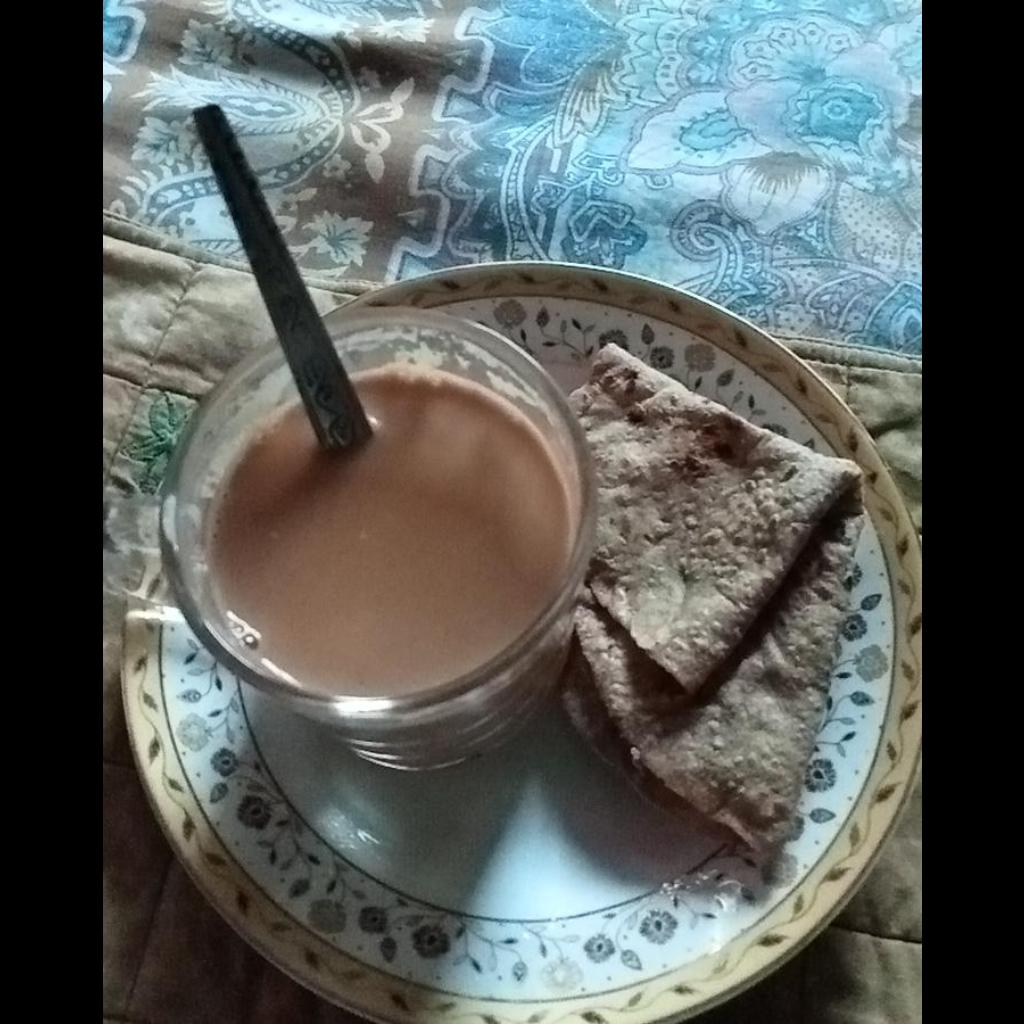cha: (196, 361, 568, 696)
ruti: (570, 340, 865, 875)
